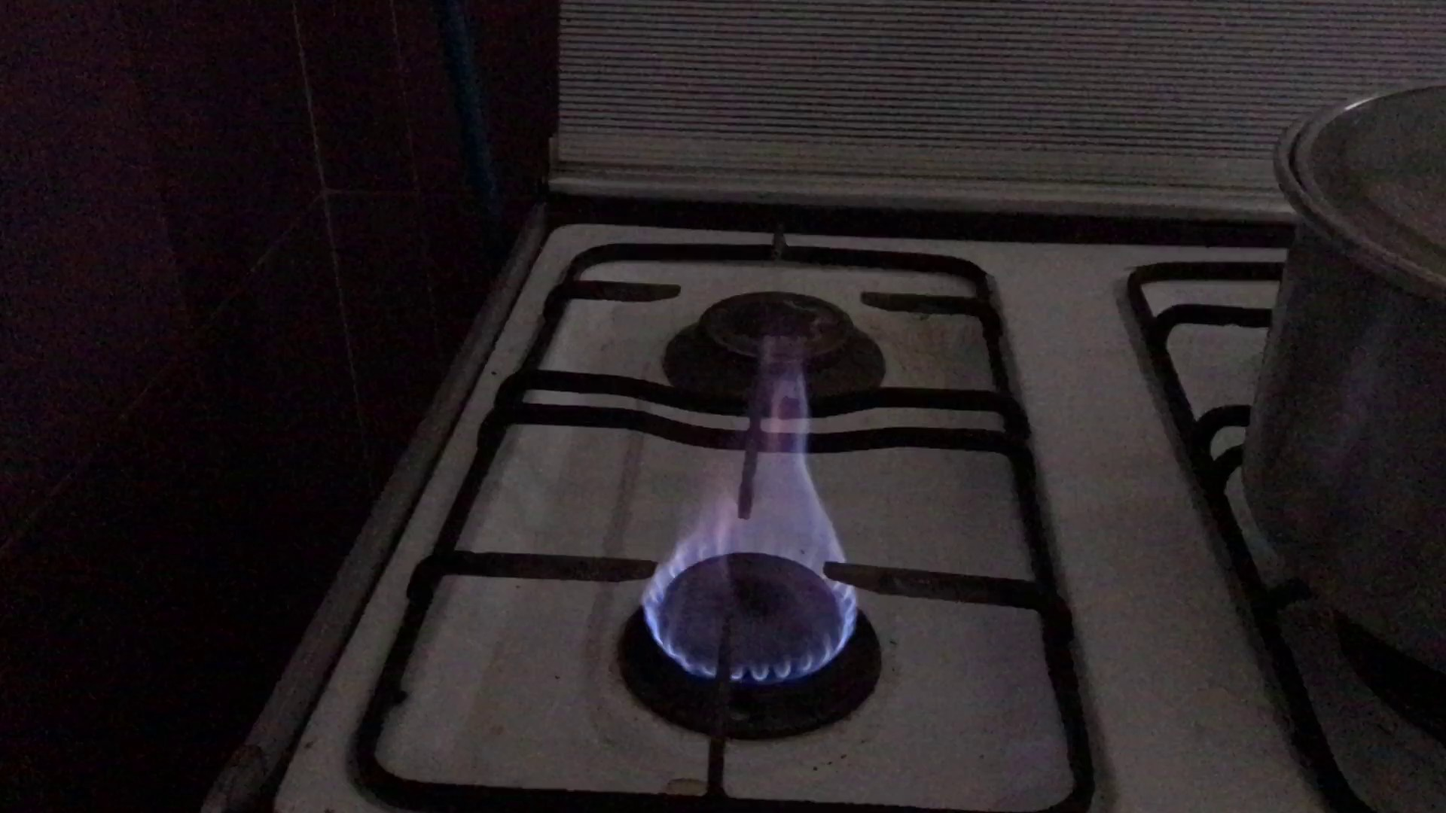fire: (641, 349, 869, 676)
